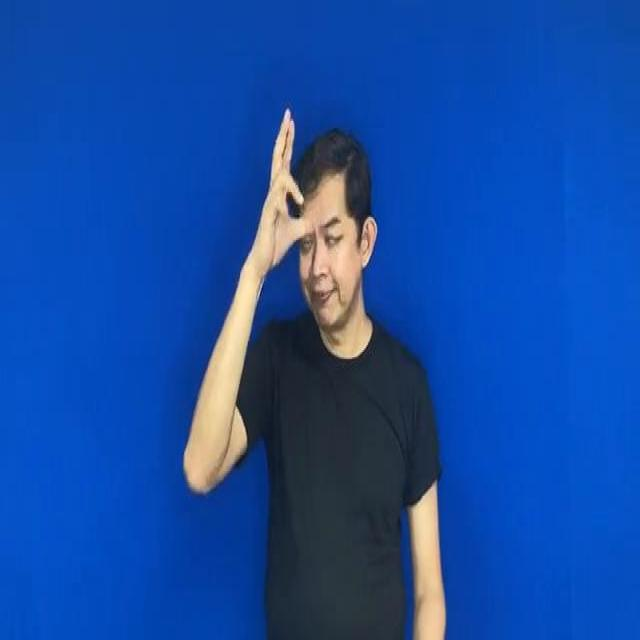chicken: (252, 98, 314, 269)
